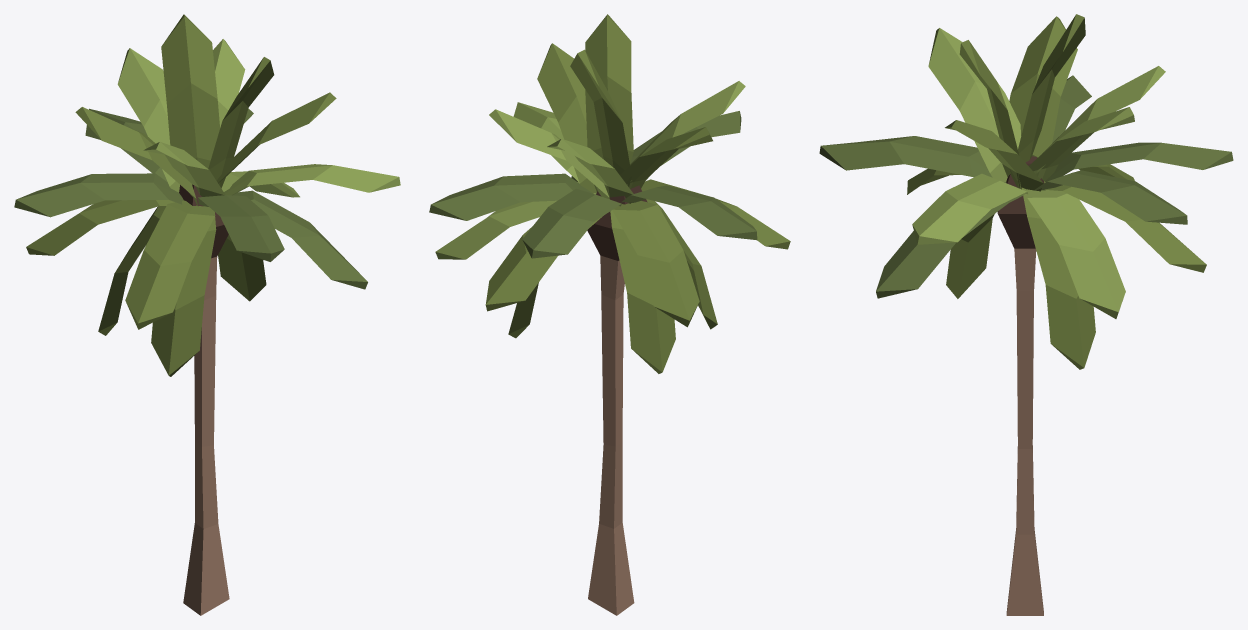
The model's file is Tree_Type7_04.glb.
The picture shows the model from 3 angles, left to right: view 1: azimuth 30°, elevation 25°; view 2: azimuth 150°, elevation 25°; view 3: azimuth 270°, elevation 25°; orthographic projection. The views are drawn at different scales.
Parts seen in each view (by area): view 1: Tree Type7 04 Model; view 2: Tree Type7 04 Model; view 3: Tree Type7 04 Model.
Boxes of the visible parts, <box> form: Tree Type7 04 Model: <box>14,14,400,615</box>; Tree Type7 04 Model: <box>429,14,790,615</box>; Tree Type7 04 Model: <box>819,14,1233,615</box>.
Size of the model in its own units: 2.4 by 4.19 by 2.59.
Materials: 1 (1 with a texture image).
